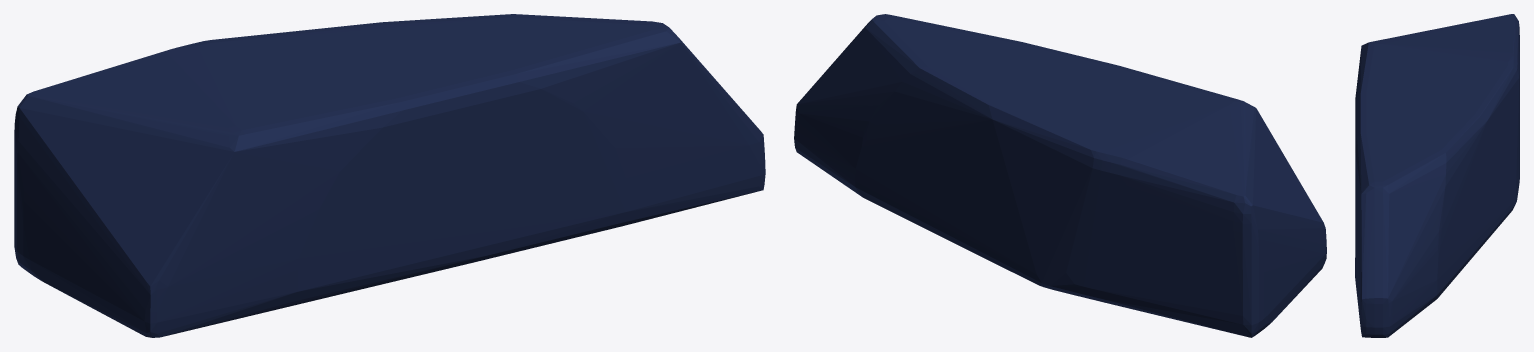
Rendered from right_hip_yaw_link_part_21.obj.
3 views of the same model, side by side, from view 1: azimuth 30°, elevation 25°; view 2: azimuth 150°, elevation 25°; view 3: azimuth 270°, elevation 25° (orthographic). The views are drawn at different scales.
Bounding box in the file's own units: 0.1287 × 0.0342 × 0.0416.
